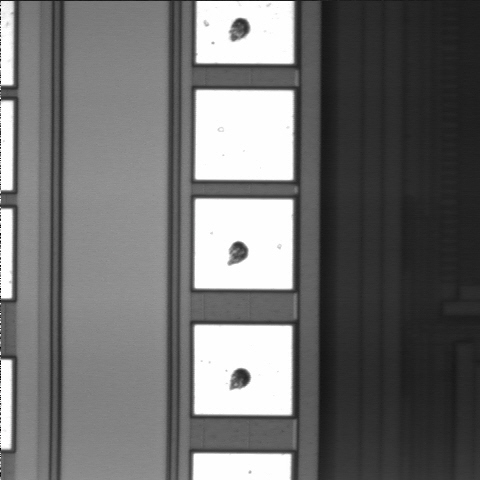pad: (195, 90, 293, 180), (195, 199, 293, 289), (194, 325, 292, 415)
